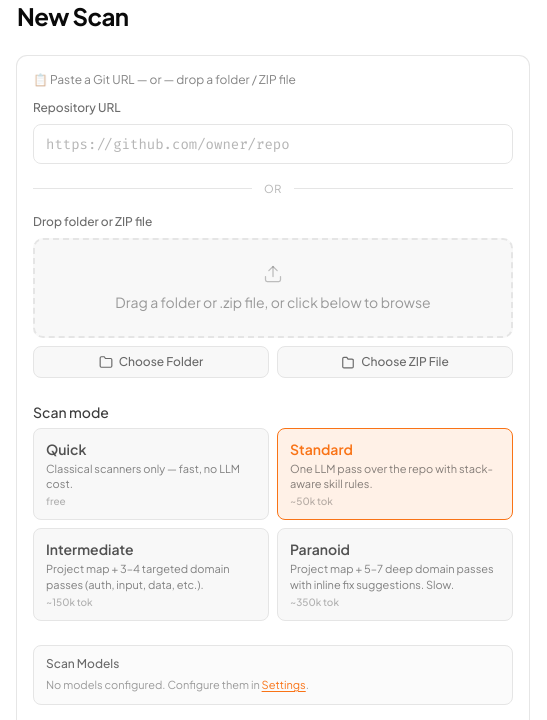
Scenario: NewScanPage › shows loading state on submit button while submitting
The width and height of the screenshot is (547, 720).
Type "https://github.com/user/repo" into the field with placeholder "https://github.com/owner/repo" at [273, 144], box [33,124,513,164]
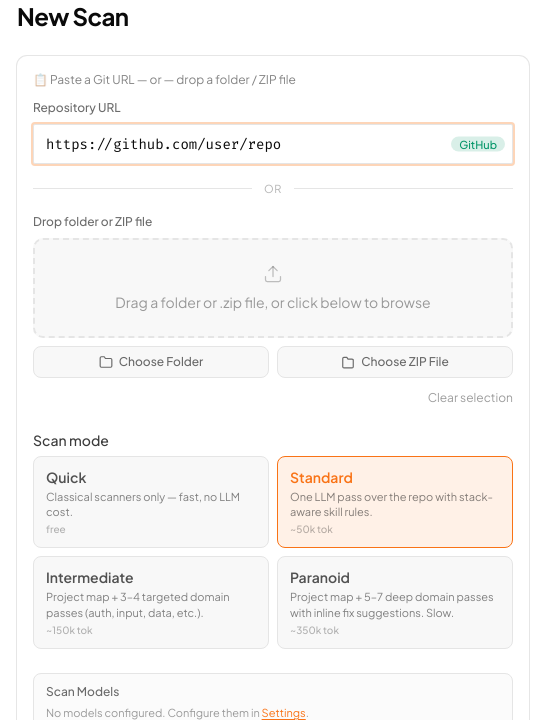
Press Tab
(page scrolled)
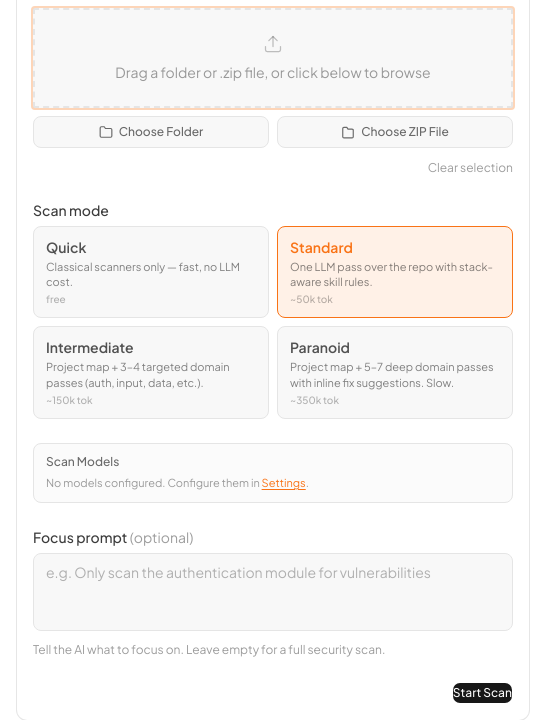
Now the button "Start Scan" is enabled
Click the button "Start Scan" at [482, 693], box [452,682,513,704]
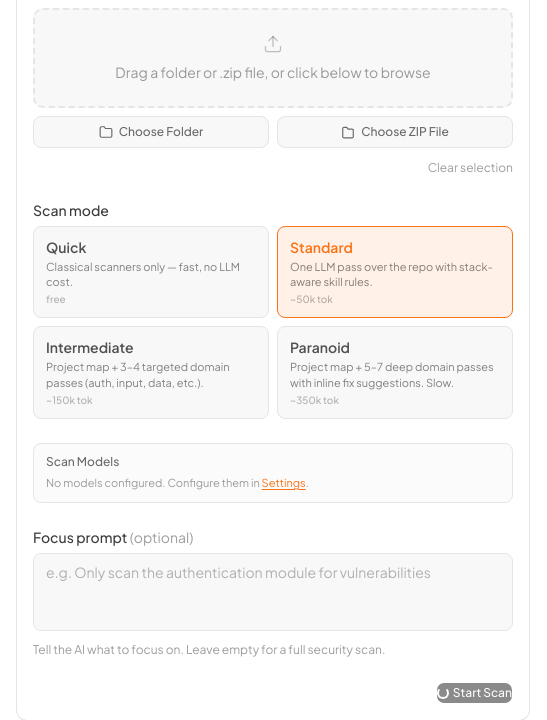
Now the element with test id "spinner" is shown, box [437,687,449,699]
